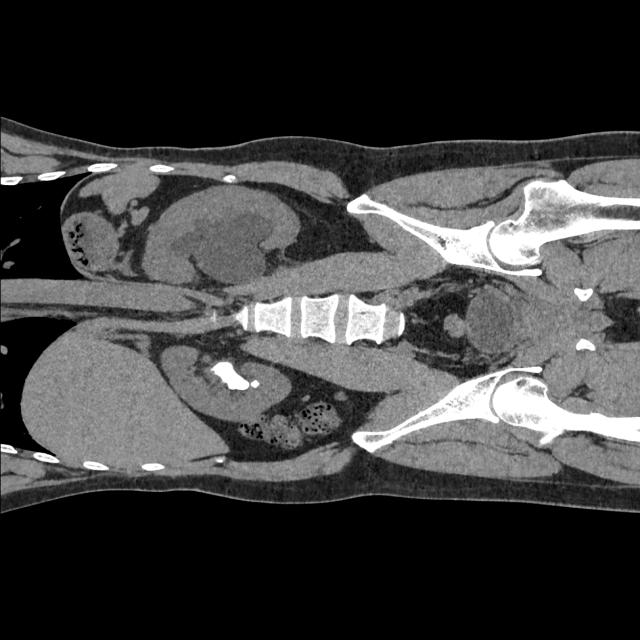kidneystone: (212, 361, 249, 389), (250, 379, 259, 388)
